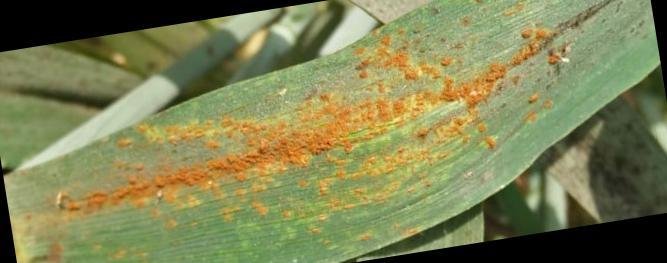Wheat: (164, 119, 414, 231), (419, 24, 527, 165), (51, 165, 157, 246), (342, 28, 417, 114), (529, 18, 572, 83)
